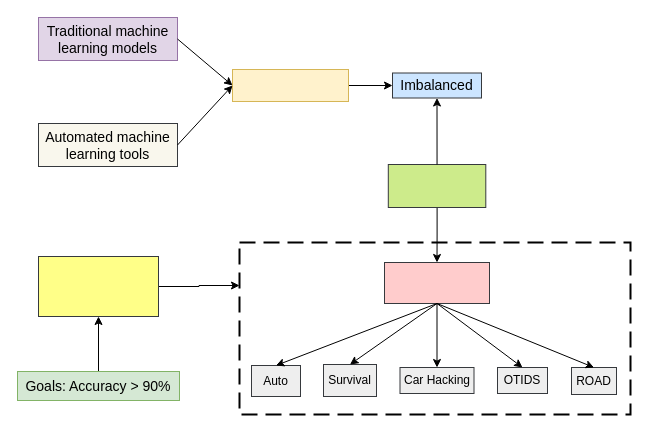
Some shapes in this 649 by 433 pixel diagram are drawn without their labels. Here are the shapes that lost their labels. From the top down, the centre of each, then its label:
pixel 290 85: SynCAN Dataset
pixel 436 186: One-Class Classification
pixel 98 286: Hybrid Model
pixel 437 283: Disclover more Datasets
